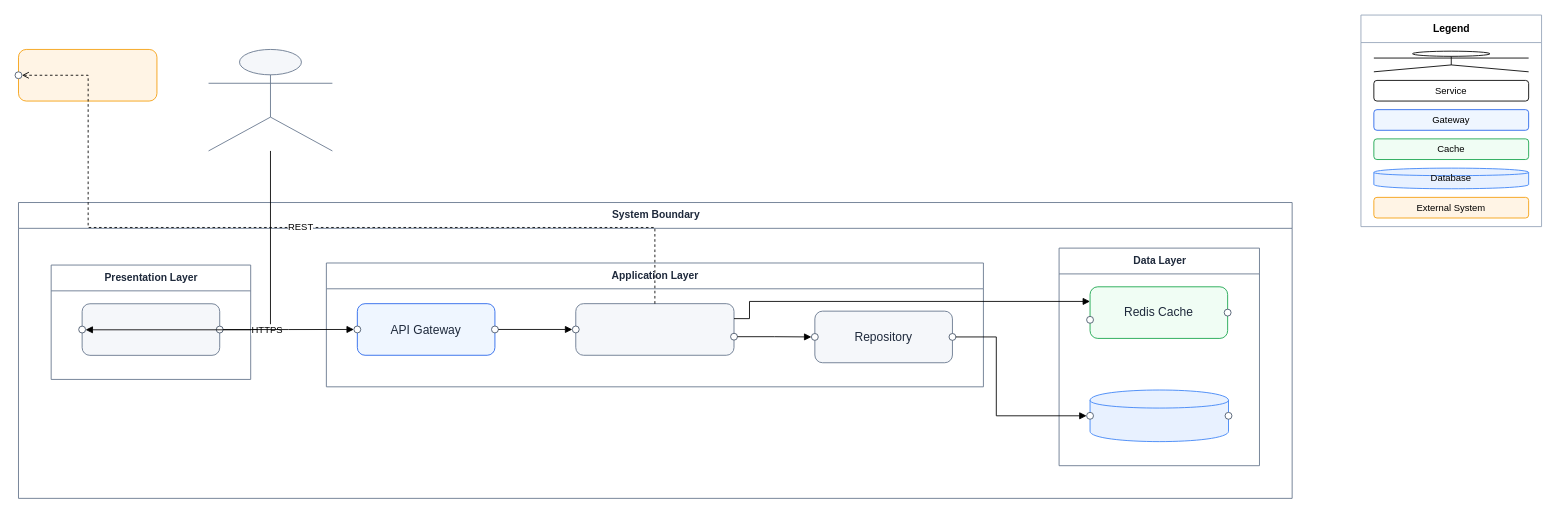
The diagram is 1557 pixels wide and 513 high, and some of its shapes have lost their labels. The shapes that lost their labels are listed below. From the top down, each one's centre as x and y in pixels, then its label:
(87,75): External Service
(1451,61): Actor / User
(270,100): User
(150,329): Web Client
(654,329): Application Service
(1159,415): Primary Database
